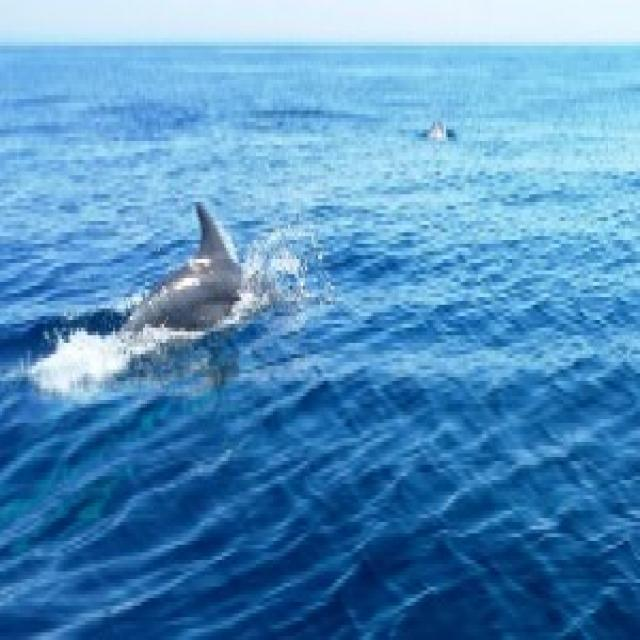Dolphin: (100, 188, 311, 360)
